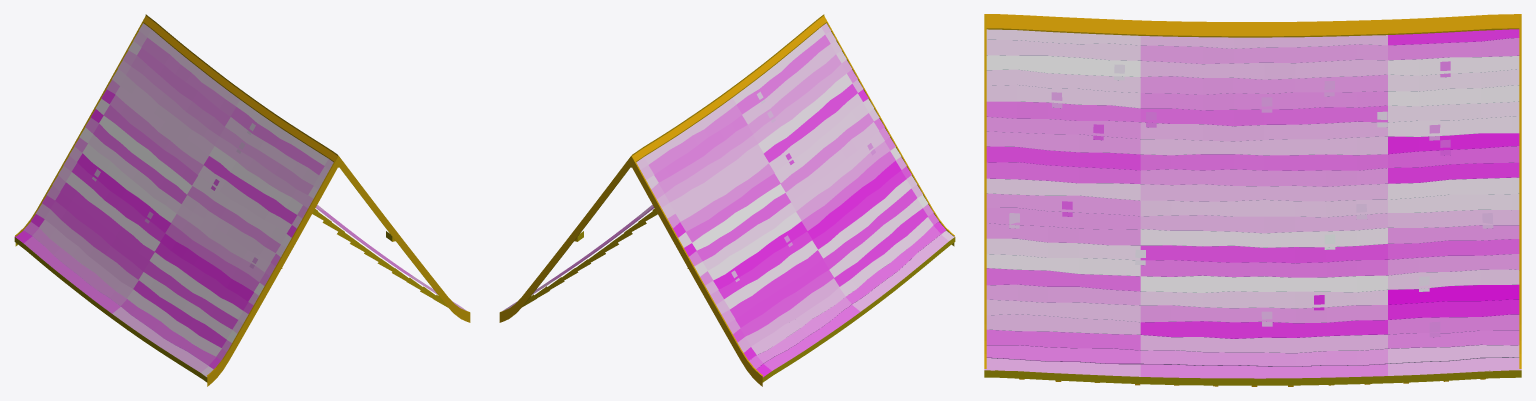
Rendered from roof_s_6x8.glb.
3 renders of one model, left to right at view 1: azimuth 30°, elevation 25°; view 2: azimuth 150°, elevation 25°; view 3: azimuth 270°, elevation 25°, orthographic. The views are drawn at different scales.
Parts seen in each view (by area): view 1: roof_s_6x8; view 2: roof_s_6x8; view 3: roof_s_6x8.
Boxes of the visible parts, <box> form: roof_s_6x8: <box>14,14,470,386</box>; roof_s_6x8: <box>499,14,955,386</box>; roof_s_6x8: <box>984,14,1521,386</box>.
Bounding box in the file's own units: 6.88 × 5.08 × 8.7.
